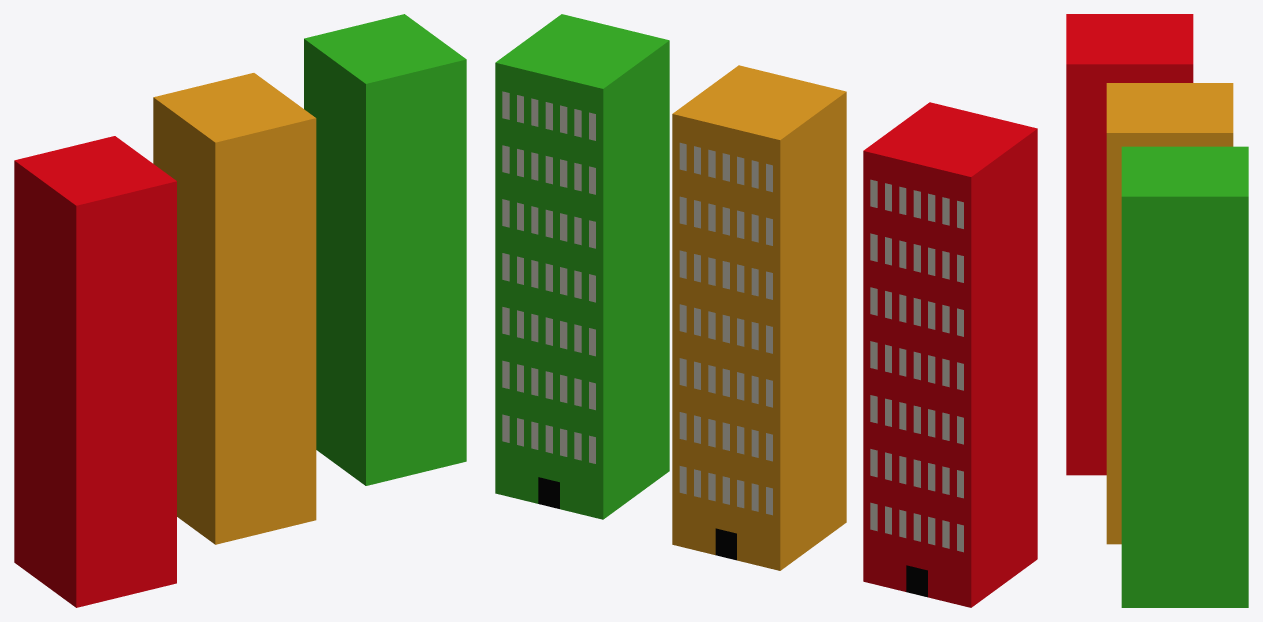
The model's file is skyscrapers.glb.
3 renders of one model, left to right at view 1: azimuth 30°, elevation 25°; view 2: azimuth 150°, elevation 25°; view 3: azimuth 270°, elevation 25°, orthographic. The views are drawn at different scales.
Parts seen in each view (by area): view 1: Red, Green, Yellow; view 2: Yellow, Red, Green; view 3: Green, Red, Yellow.
Boxes of the visible parts, x1,y1,x2,y2 form: Red: (14, 136, 176, 607); Green: (304, 14, 466, 485); Yellow: (153, 73, 316, 544); Yellow: (672, 65, 846, 570); Red: (863, 102, 1037, 607); Green: (495, 14, 669, 519); Green: (1121, 146, 1248, 607); Red: (1066, 14, 1193, 475); Yellow: (1106, 83, 1233, 544).
Size of the model in its own units: 7.77 by 7.59 by 2.87.
